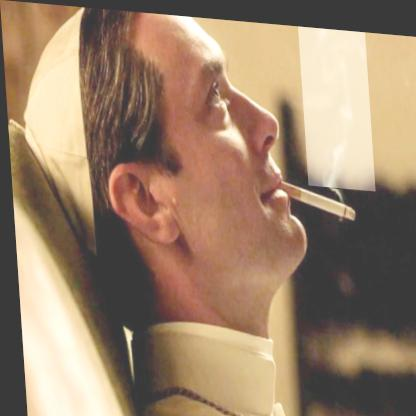smoke: (298, 21, 373, 185)
